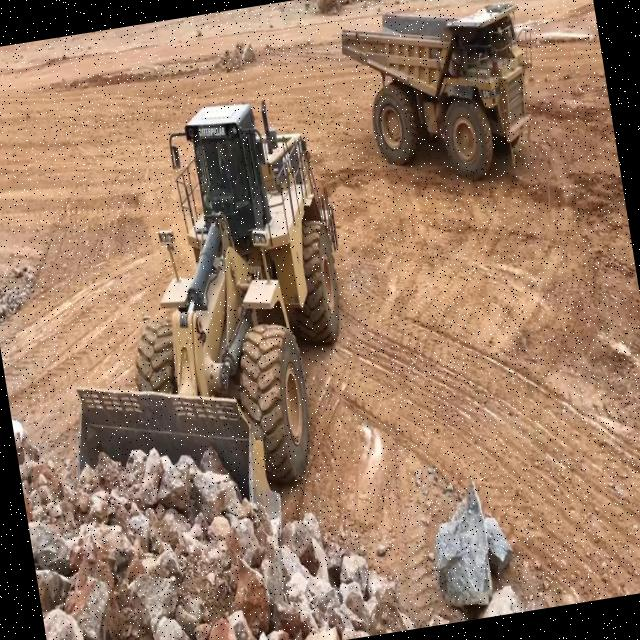Dump Truck: (332, 0, 560, 213)
Loader: (14, 91, 397, 604)
